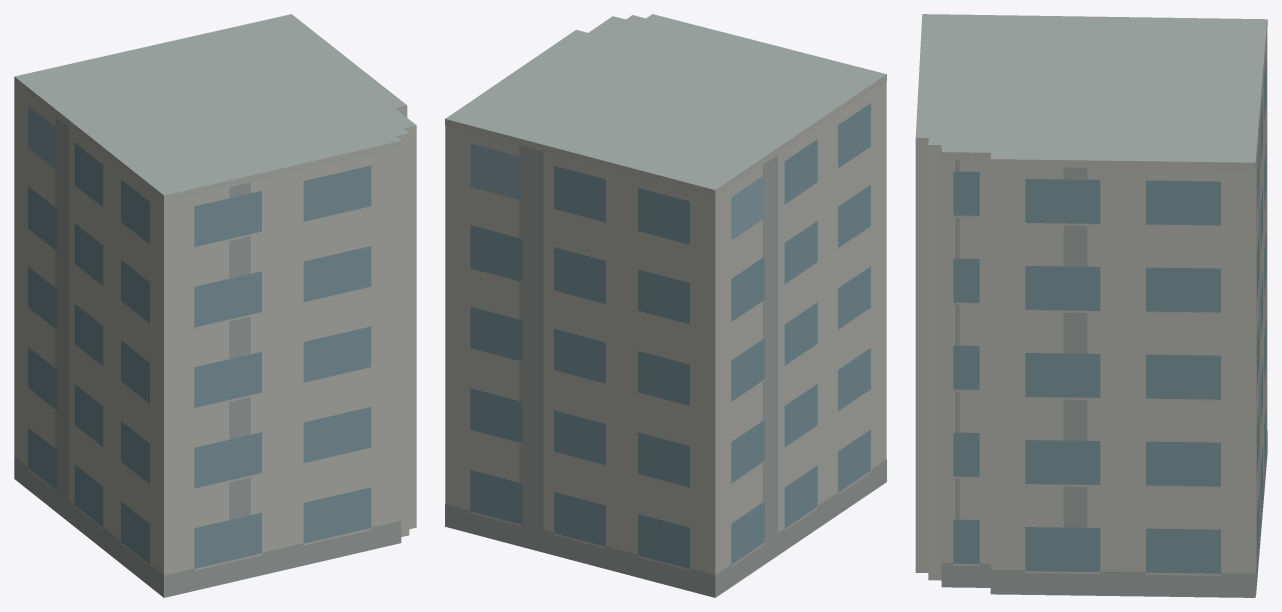
File: survey-upis-33021978.glb
The picture shows the model from 3 angles, left to right: view 1: azimuth 30°, elevation 25°; view 2: azimuth 150°, elevation 25°; view 3: azimuth 270°, elevation 25°; orthographic projection. The views are drawn at different scales.
Visible parts, largest first — view 1: survey-upis-33021978.tmp; view 2: survey-upis-33021978.tmp; view 3: survey-upis-33021978.tmp.
Part boxes in pixels (bbox=[...]): survey-upis-33021978.tmp: bbox=[14, 14, 416, 597]; survey-upis-33021978.tmp: bbox=[445, 14, 886, 597]; survey-upis-33021978.tmp: bbox=[915, 14, 1267, 597].
Size of the model in its own units: 10.56 by 14.4 by 10.56.
